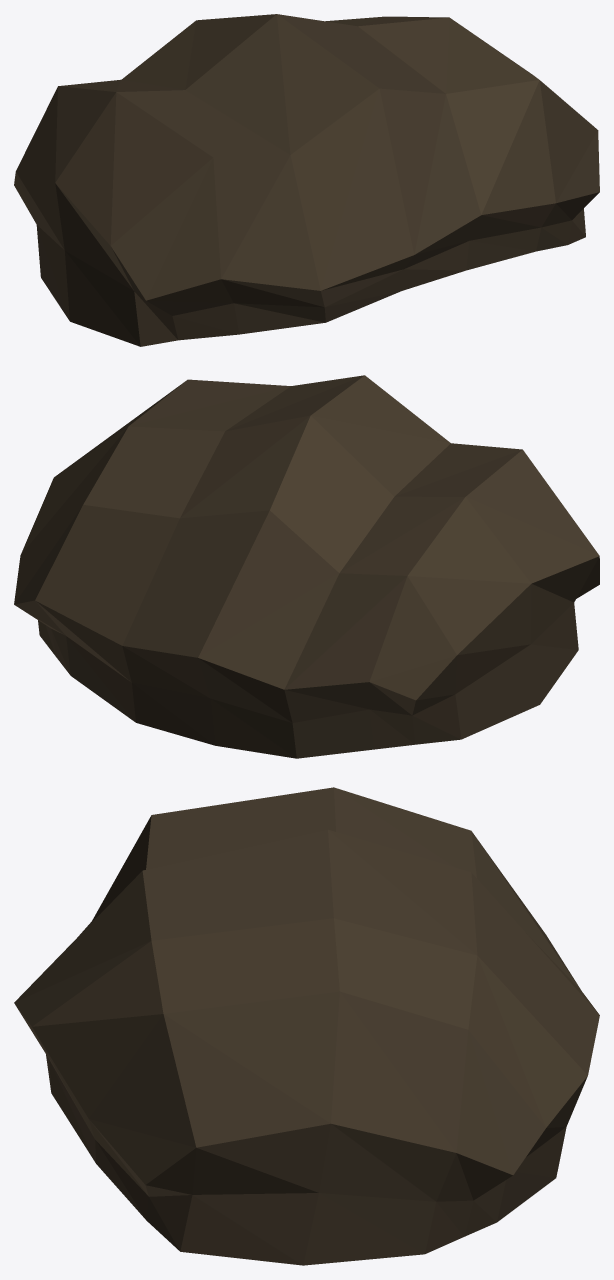
Rendered from human_hair32.glb.
The picture shows the model from 3 angles, top to bottom: view 1: azimuth 30°, elevation 25°; view 2: azimuth 150°, elevation 25°; view 3: azimuth 270°, elevation 25°; orthographic projection. The views are drawn at different scales.
Parts seen in each view (by area): view 1: hair_short_swept_01; view 2: hair_short_swept_01; view 3: hair_short_swept_01.
Boxes of the visible parts, x1=… form: hair_short_swept_01: x1=14, y1=14, x2=599, y2=346; hair_short_swept_01: x1=14, y1=375, x2=599, y2=758; hair_short_swept_01: x1=14, y1=787, x2=599, y2=1265.
Size of the model in its own units: 0.225 by 0.1133 by 0.196.
